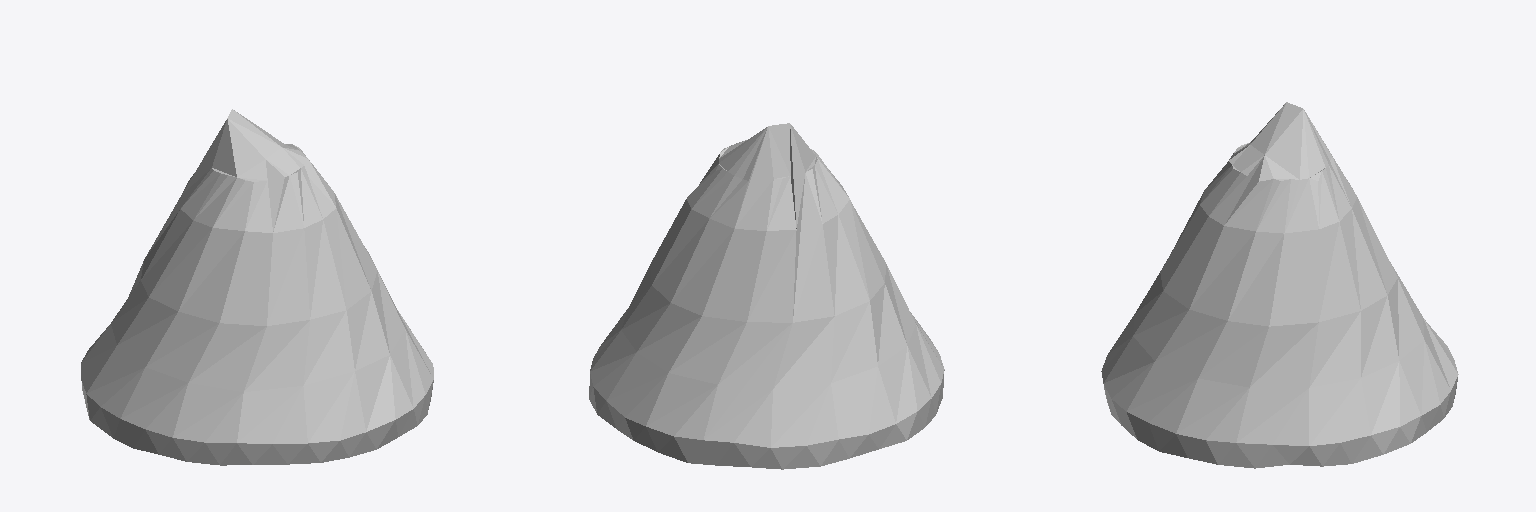
The model's file is Mint Icecream.obj.
3 renders of one model, left to right at view 1: azimuth 30°, elevation 25°; view 2: azimuth 150°, elevation 25°; view 3: azimuth 270°, elevation 25°, orthographic.
Parts seen in each view (by area): view 1: Mint_Icecream; view 2: Mint_Icecream; view 3: Mint_Icecream.
Boxes of the visible parts, <box> form: Mint_Icecream: <box>81,109,433,465</box>; Mint_Icecream: <box>589,123,944,469</box>; Mint_Icecream: <box>1101,102,1458,468</box>.
Size of the model in its own units: 0.093 by 0.0825 by 0.0943.